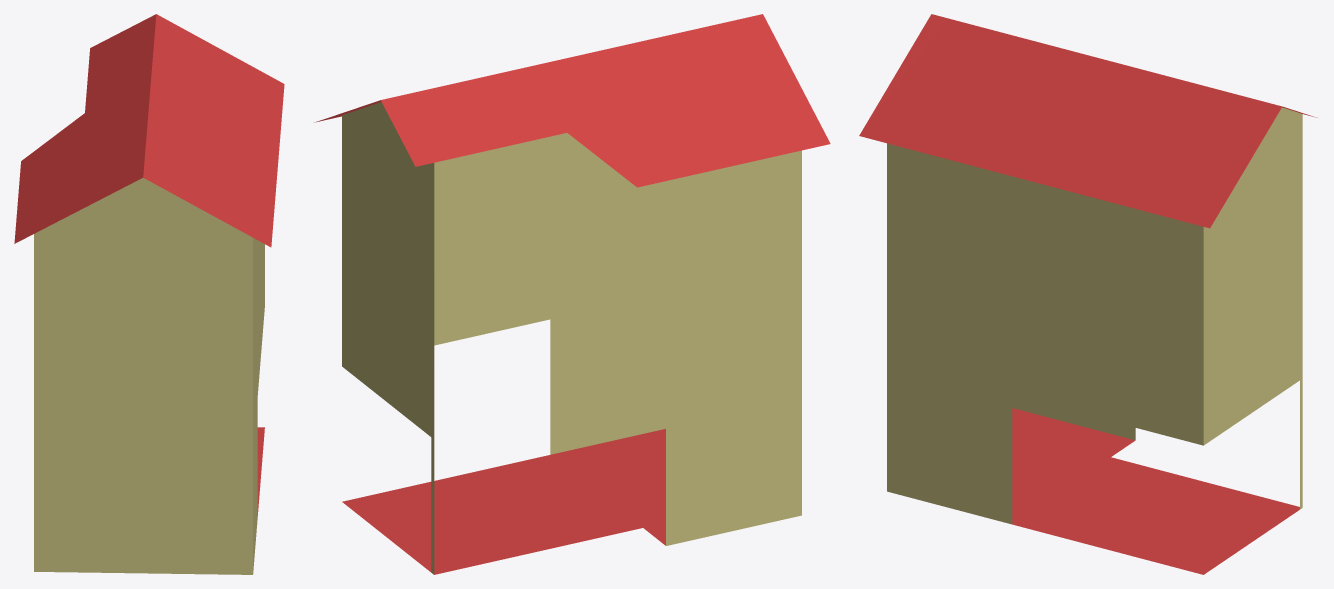
The picture shows the model from 3 angles, left to right: view 1: azimuth 30°, elevation 25°; view 2: azimuth 150°, elevation 25°; view 3: azimuth 270°, elevation 25°; orthographic projection. The views are drawn at different scales.
Size of the model in its own units: 11.18 by 11.41 by 11.77.
